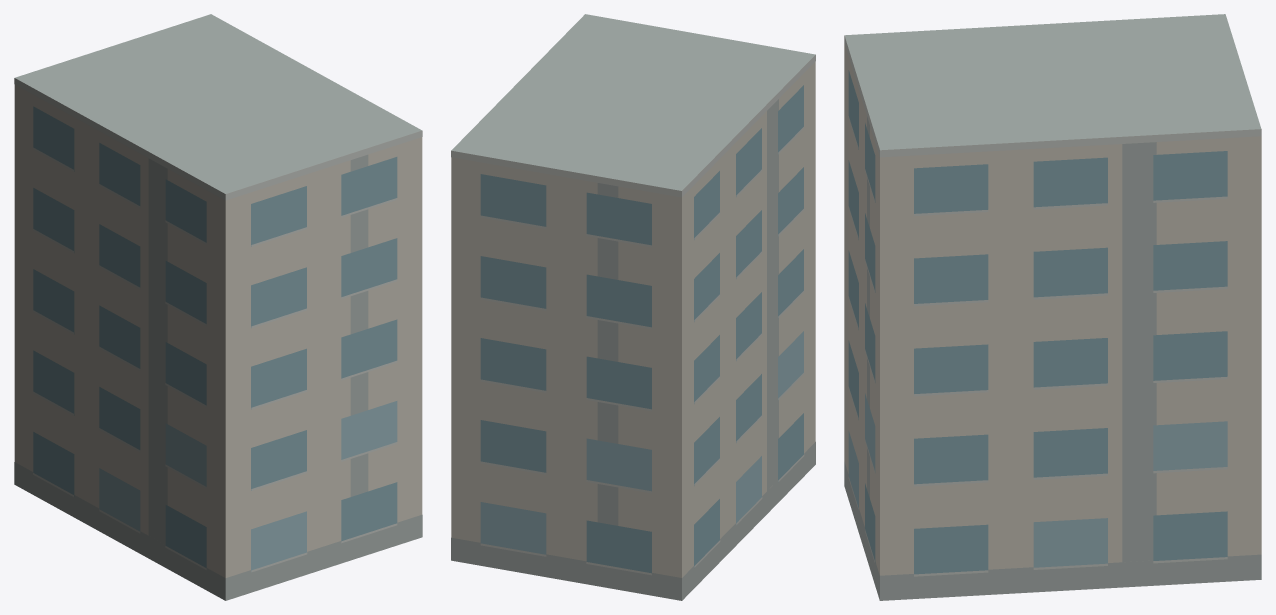
The model's file is residential-895da37b-2569-4870-bedb-497ecd8d7838.glb.
3 views of the same model, side by side, from view 1: azimuth 30°, elevation 25°; view 2: azimuth 150°, elevation 25°; view 3: azimuth 270°, elevation 25° (orthographic). The views are drawn at different scales.
Parts seen in each view (by area): view 1: residential-895da37b-2569-4870-bedb-497ecd8d7838.tmp; view 2: residential-895da37b-2569-4870-bedb-497ecd8d7838.tmp; view 3: residential-895da37b-2569-4870-bedb-497ecd8d7838.tmp.
Boxes of the visible parts, box(x1,y1,x2,y2) form: residential-895da37b-2569-4870-bedb-497ecd8d7838.tmp: box(14, 14, 422, 600); residential-895da37b-2569-4870-bedb-497ecd8d7838.tmp: box(451, 14, 815, 600); residential-895da37b-2569-4870-bedb-497ecd8d7838.tmp: box(844, 14, 1261, 600).
Size of the model in its own units: 9.9 by 15.25 by 12.8.
